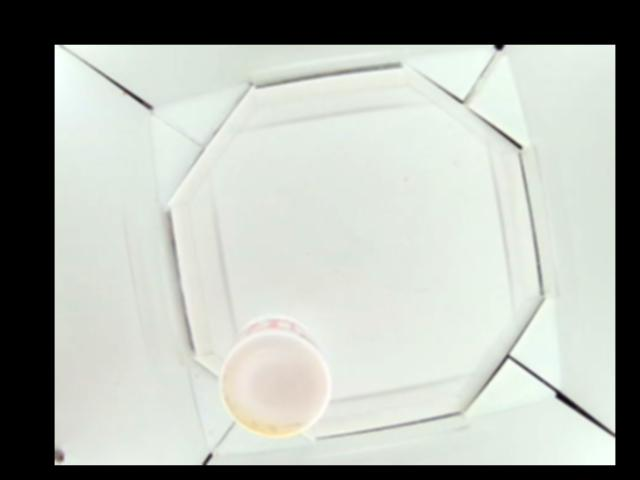Bottle: (218, 317, 332, 438)
